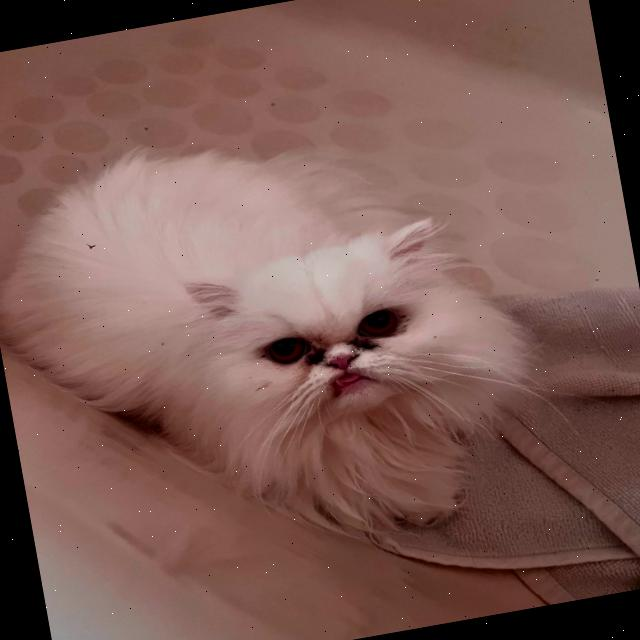persian_cat: (144, 185, 560, 510)
